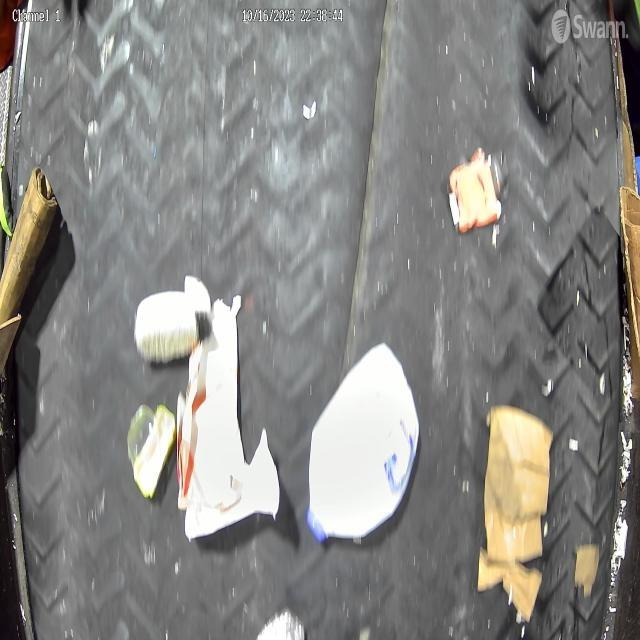milk_jug: (306, 341, 422, 547)
